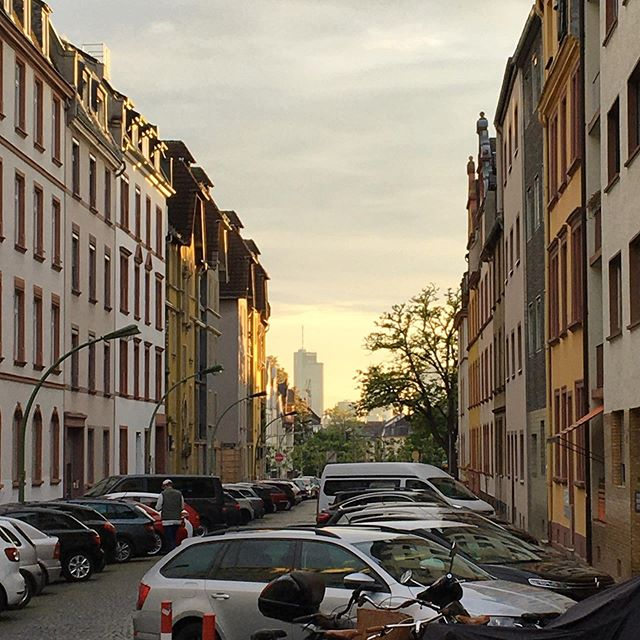building: (1, 24, 175, 480), (541, 1, 640, 519), (432, 91, 544, 533), (164, 161, 266, 489), (290, 338, 333, 422)
car: (150, 531, 559, 635)
sky: (168, 1, 464, 301)
tree: (367, 287, 463, 473)
